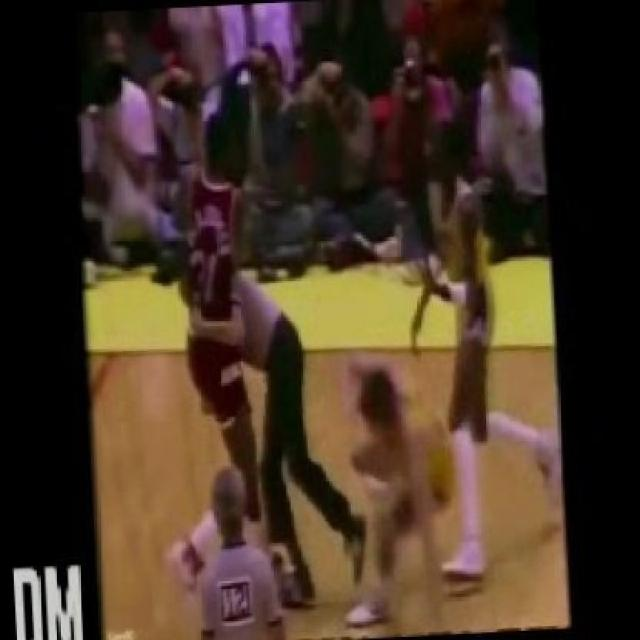fight: (144, 110, 364, 611)
non-fight: (416, 138, 578, 582), (351, 370, 464, 627)
